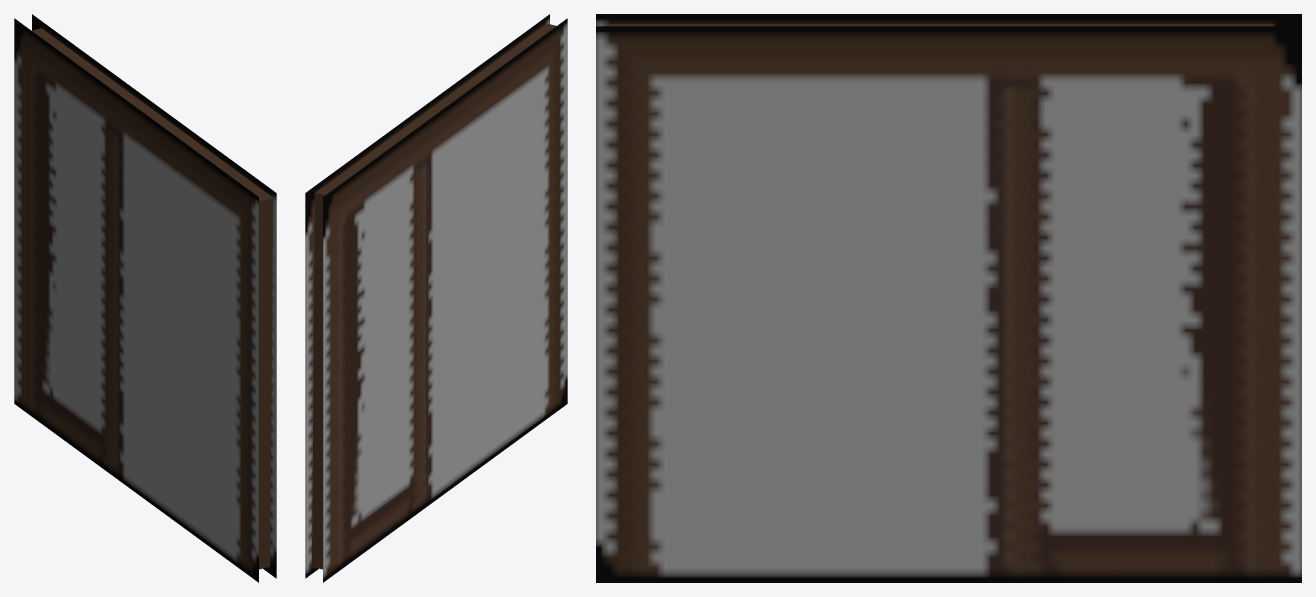
Rendered from pz_native_location_hospitality_sunstarmotel_01_64_frame.obj.
3 renders of one model, left to right at view 1: azimuth 30°, elevation 25°; view 2: azimuth 150°, elevation 25°; view 3: azimuth 270°, elevation 25°, orthographic. The views are drawn at different scales.
Visible parts, largest first — view 1: pz_native_location_hospitality_sunstarmotel_01_64_frame; view 2: pz_native_location_hospitality_sunstarmotel_01_64_frame; view 3: pz_native_location_hospitality_sunstarmotel_01_64_frame.
Boxes of the visible parts, left/top/right/bottom form: pz_native_location_hospitality_sunstarmotel_01_64_frame: left=14, top=14, right=276, bottom=582; pz_native_location_hospitality_sunstarmotel_01_64_frame: left=305, top=14, right=567, bottom=582; pz_native_location_hospitality_sunstarmotel_01_64_frame: left=596, top=14, right=1301, bottom=582.
Size of the model in its own units: 0.04 by 0.8438 by 0.9696.
Materials: 1 (1 with a texture image).
